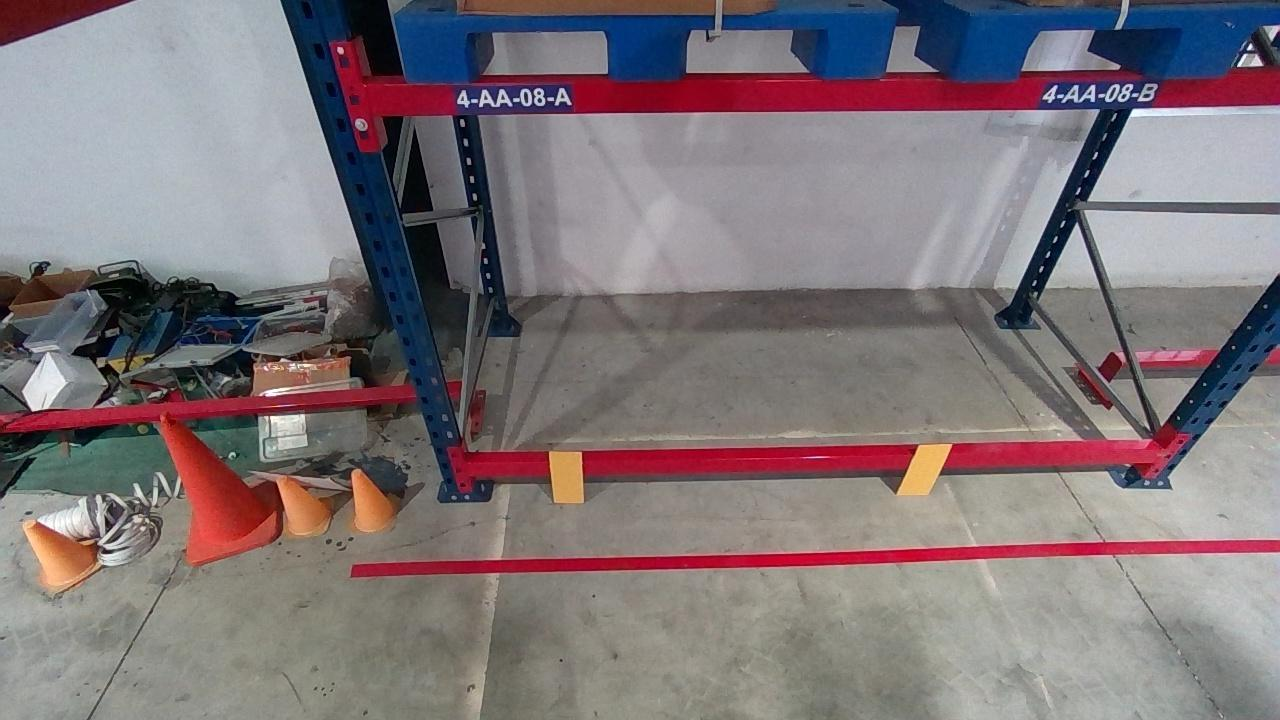h_rack: (368, 74, 1278, 114), (471, 449, 1161, 477)
orange_strip: (895, 443, 957, 494), (549, 451, 584, 502)
red_line: (347, 537, 1278, 576)
small_pallet: (366, 11, 897, 75), (959, 6, 1278, 74)
